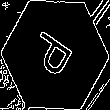P_SE: (27, 26, 83, 84)
